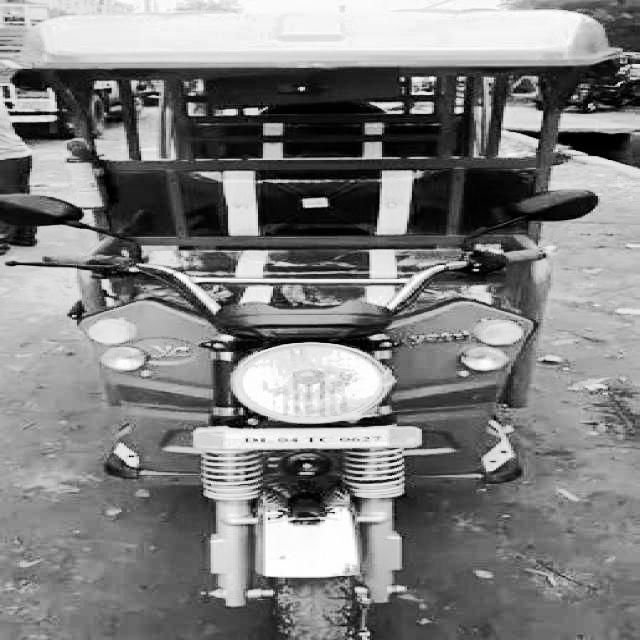Toto: (25, 7, 603, 640)
